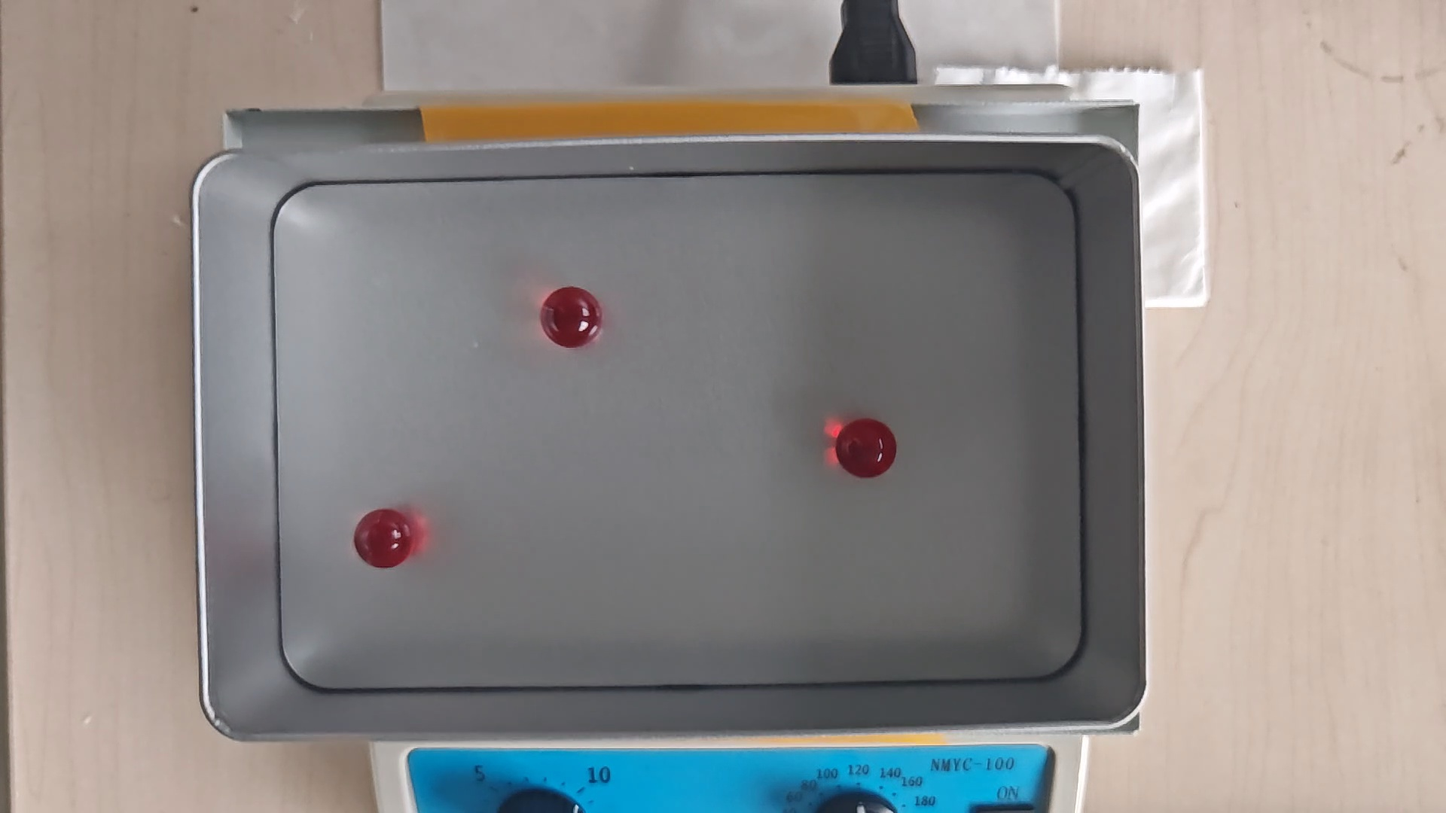ball: (835, 417, 898, 478), (543, 288, 602, 349), (356, 510, 412, 565)
container: (276, 173, 1081, 687)
